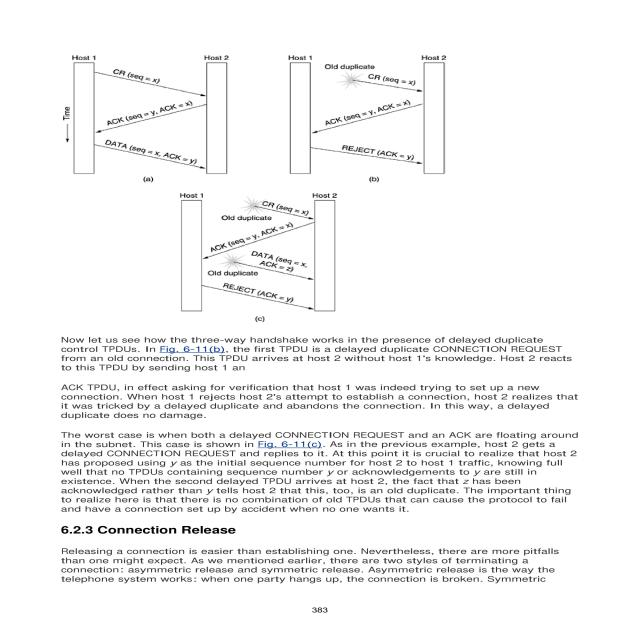diagram: (59, 28, 512, 334)
